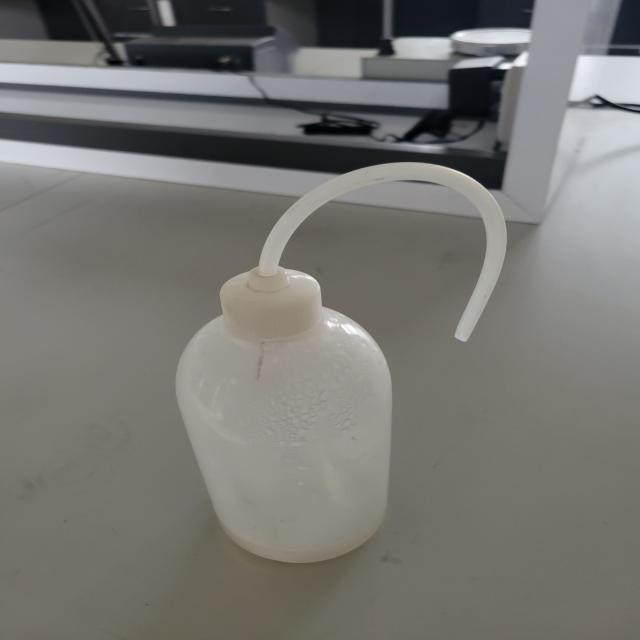Wash_Bottle: (112, 120, 560, 604)
